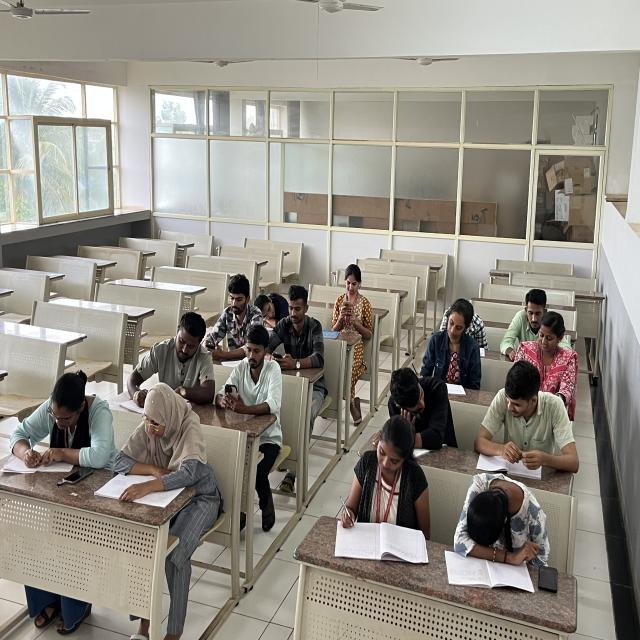Reading: (107, 388, 210, 508)
Sleeping: (456, 472, 556, 570), (251, 287, 293, 329)
Using Phone: (479, 366, 584, 477), (217, 322, 282, 410), (266, 282, 324, 370), (385, 366, 457, 428), (329, 262, 381, 328)
Writing: (329, 422, 426, 553), (3, 371, 112, 475), (128, 309, 215, 405), (405, 294, 489, 388)
